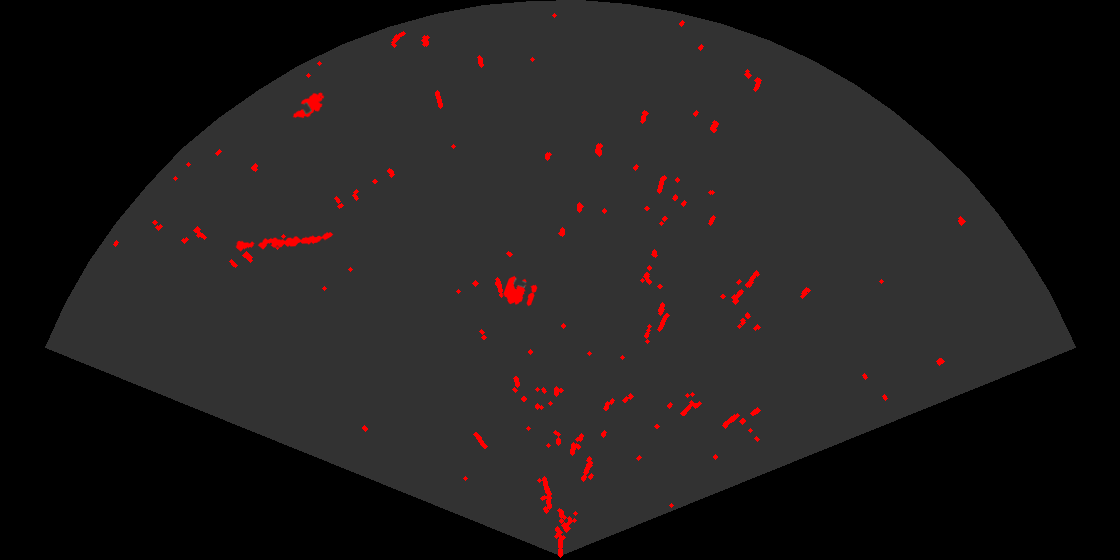AUV: (291, 91, 326, 120)
ball: (502, 274, 539, 308)
chain: (233, 231, 335, 253)
